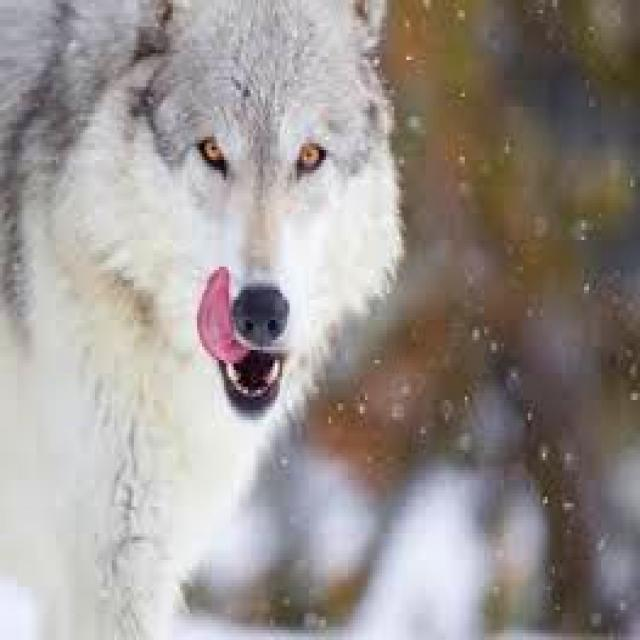wolf: (2, 0, 404, 637)
